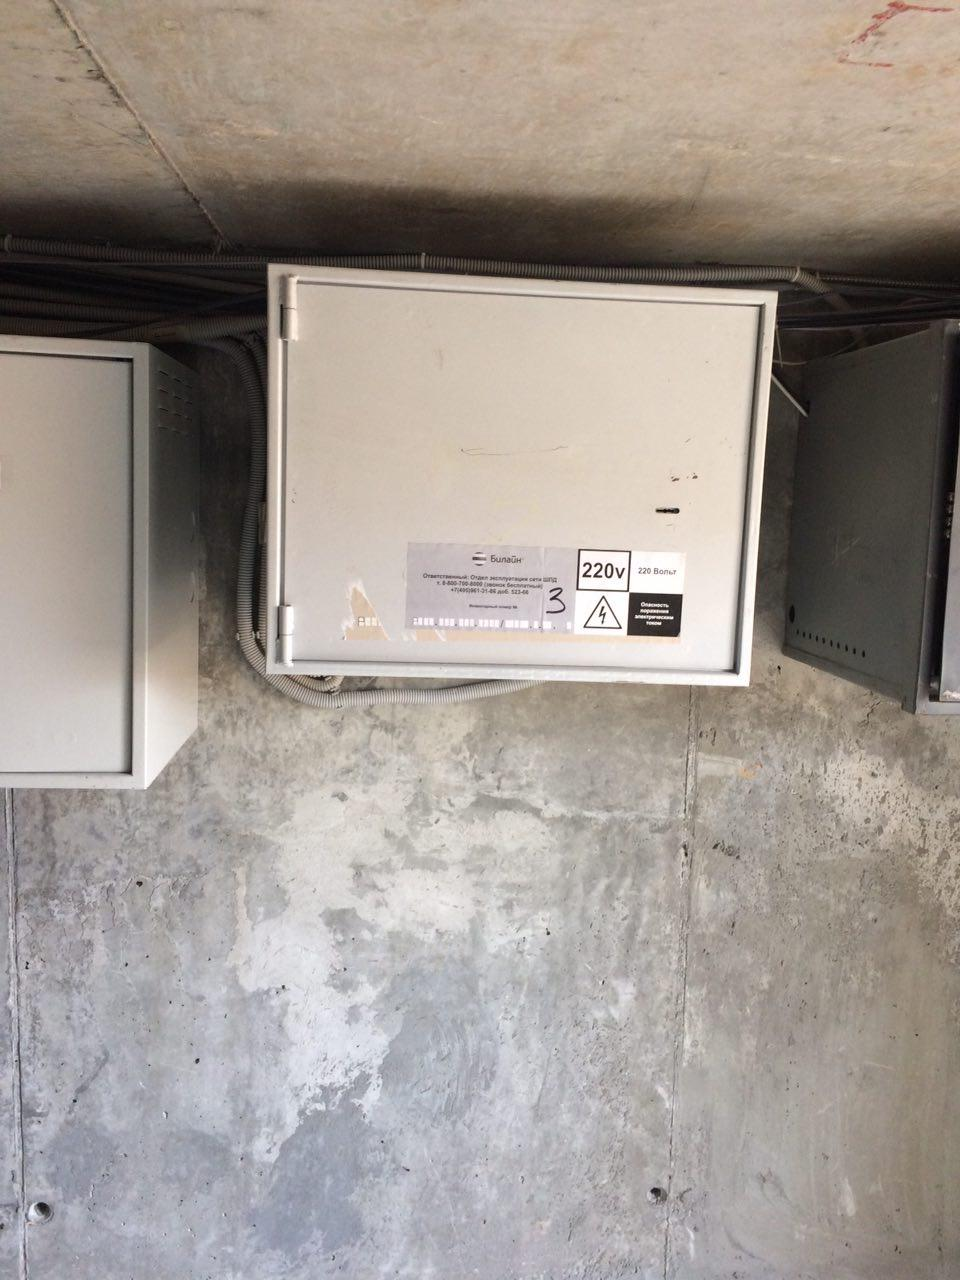shta-9m: (251, 244, 790, 696)
